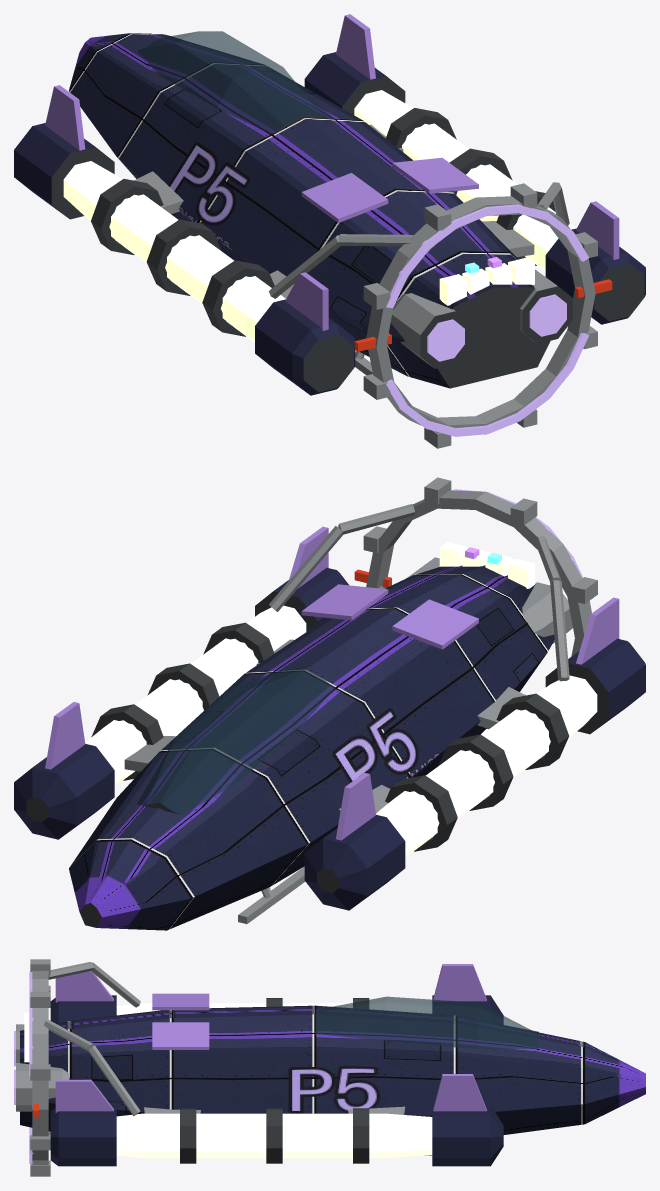
The model's file is corona.glb.
3 renders of one model, top to bottom at view 1: azimuth 30°, elevation 25°; view 2: azimuth 150°, elevation 25°; view 3: azimuth 270°, elevation 25°, orthographic. The views are drawn at different scales.
Parts seen in each view (by area): view 1: body_static, stabiliser_ring_body, airbrake_L_body, airbrake_R_body, steering_fin_L_body, steering_fin_R_body, elevon_L_body, elevon_R_body; view 2: body_static, stabiliser_ring_body, airbrake_L_body, airbrake_R_body, steering_fin_R_body, steering_fin_L_body, elevon_L_body, skids_body, elevon_R_body; view 3: body_static, stabiliser_ring_body, steering_fin_R_body, steering_fin_L_body, airbrake_R_body, elevon_R_body, elevon_L_body, airbrake_L_body.
Part boxes in pixels (x1,y1,x2,y2): body_static: (14, 31, 645, 395); stabiliser_ring_body: (363, 183, 597, 448); airbrake_L_body: (301, 173, 388, 222); airbrake_R_body: (392, 157, 478, 193); steering_fin_L_body: (45, 85, 85, 150); steering_fin_R_body: (336, 14, 375, 79); elevon_L_body: (285, 272, 328, 330); elevon_R_body: (576, 201, 619, 259); body_static: (14, 504, 645, 930); stabiliser_ring_body: (363, 477, 597, 729); airbrake_L_body: (392, 599, 478, 649); airbrake_R_body: (301, 584, 388, 620); steering_fin_R_body: (45, 702, 85, 769); steering_fin_L_body: (336, 773, 375, 840); elevon_L_body: (576, 597, 619, 664); skids_body: (238, 866, 304, 923); elevon_R_body: (288, 526, 328, 588); body_static: (14, 962, 645, 1166); stabiliser_ring_body: (29, 959, 50, 1176); steering_fin_R_body: (433, 1074, 486, 1111); steering_fin_L_body: (433, 964, 486, 1001); airbrake_R_body: (152, 1022, 209, 1049); elevon_R_body: (55, 1079, 113, 1112); elevon_L_body: (55, 971, 113, 1002); airbrake_L_body: (152, 993, 209, 1010).
Bounding box in the file's own units: 3.14 × 1.95 × 6.21.
10 materials, 2 textured.
